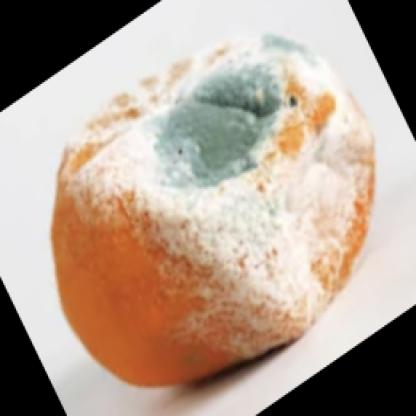rotten: (54, 32, 376, 388)
